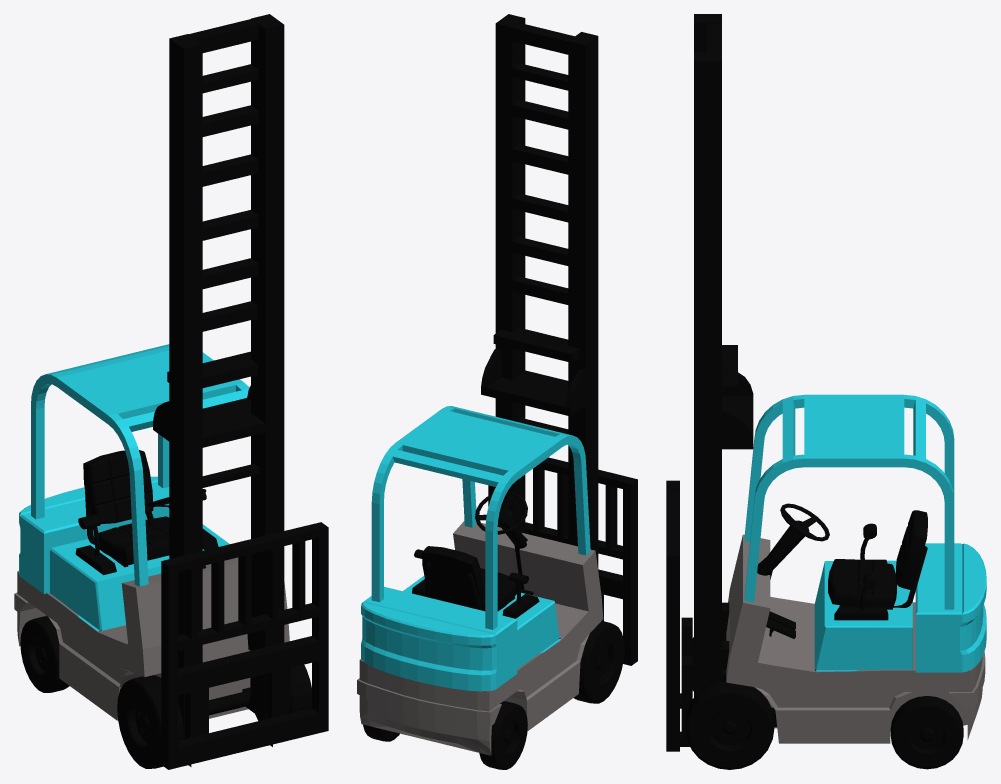
Rendered from stacker.glb.
3 renders of one model, left to right at view 1: azimuth 30°, elevation 25°; view 2: azimuth 150°, elevation 25°; view 3: azimuth 270°, elevation 25°, orthographic. The views are drawn at different scales.
Bounding box in the file's own units: 3.2 × 13.87 × 5.78.
